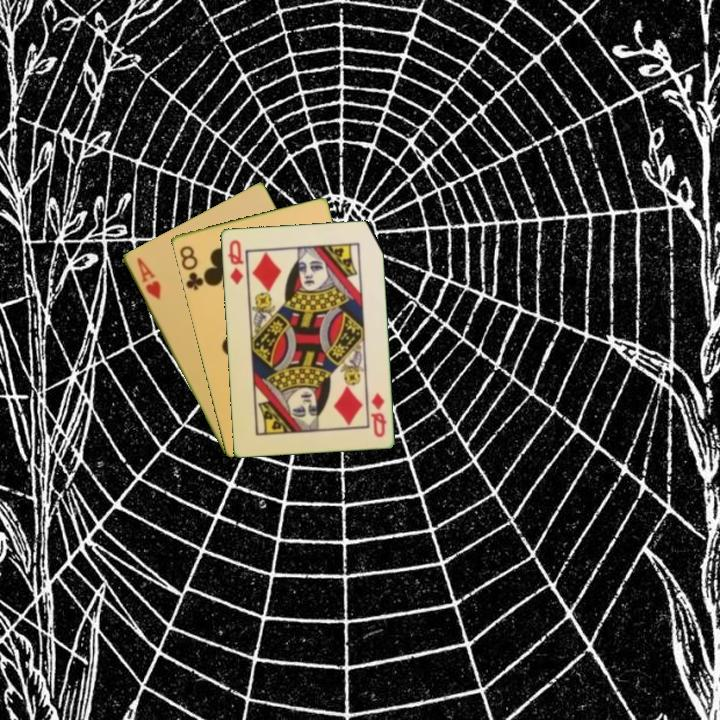8c: (176, 242, 208, 293)
Ah: (133, 254, 163, 302)
Qd: (224, 236, 246, 287), (367, 389, 389, 440)
